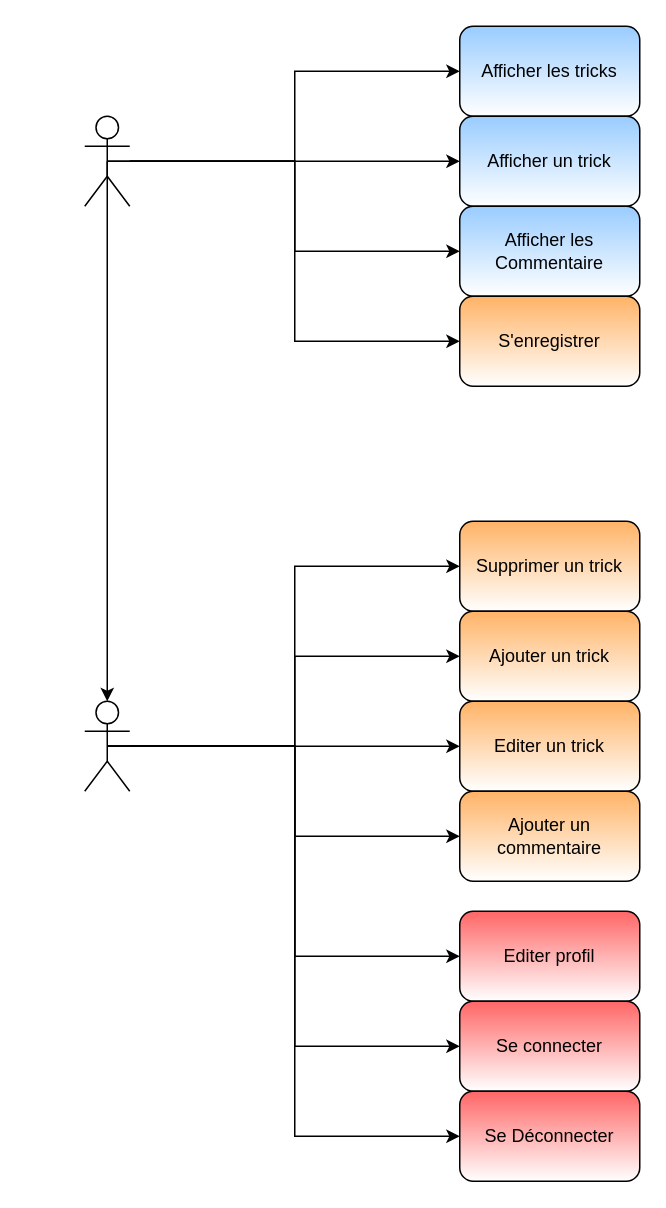
Image size: 666x1208. Some labels were removed from this diagram. The shapes that lost their labels are listed below. From the top down, each one's centre as x and y in pixels, then its label:
point (106, 160): Visiteur
point (106, 745): Utilisateur Connecté
